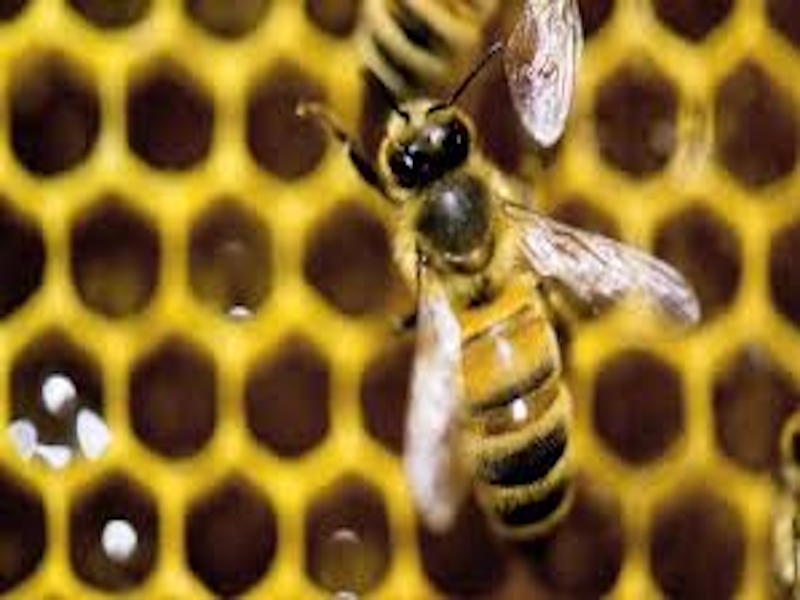abeja: (281, 37, 698, 544)
